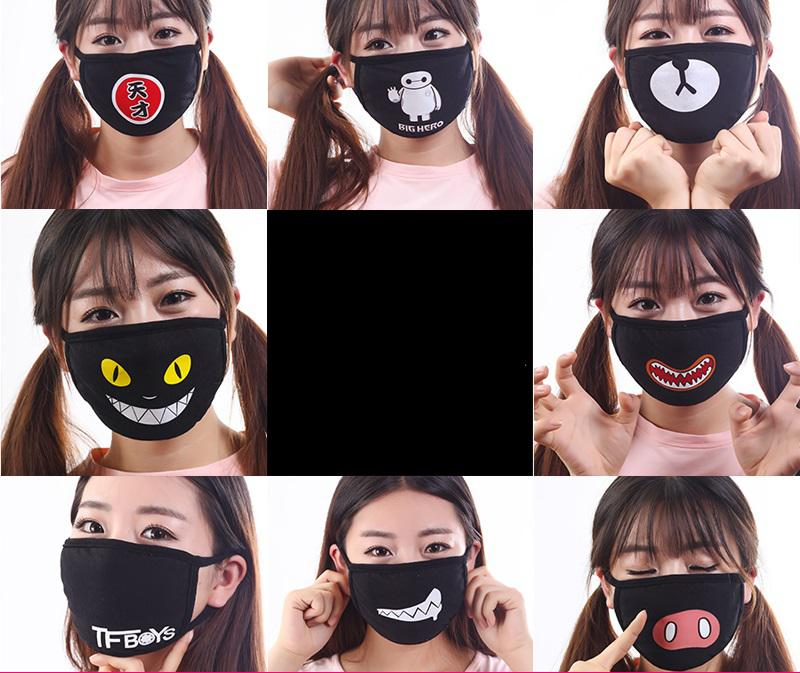OK: (57, 267, 233, 443), (58, 495, 219, 656), (614, 6, 754, 146), (604, 271, 742, 409), (610, 537, 744, 671), (71, 7, 204, 140), (353, 6, 483, 136), (348, 521, 474, 647)
